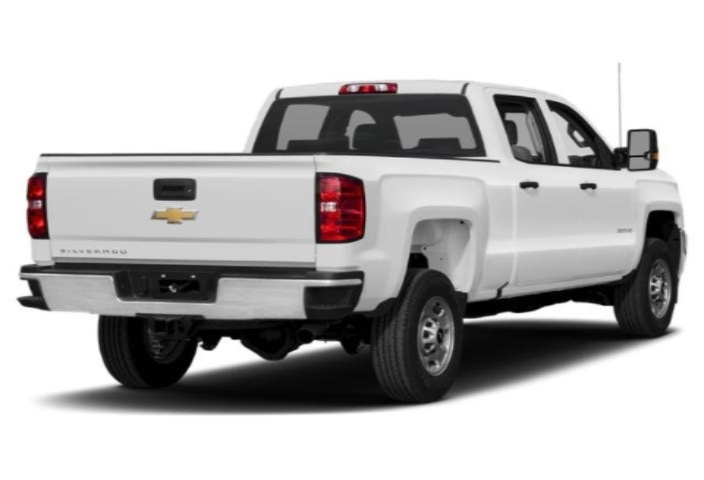camper: (4, 70, 704, 420)
